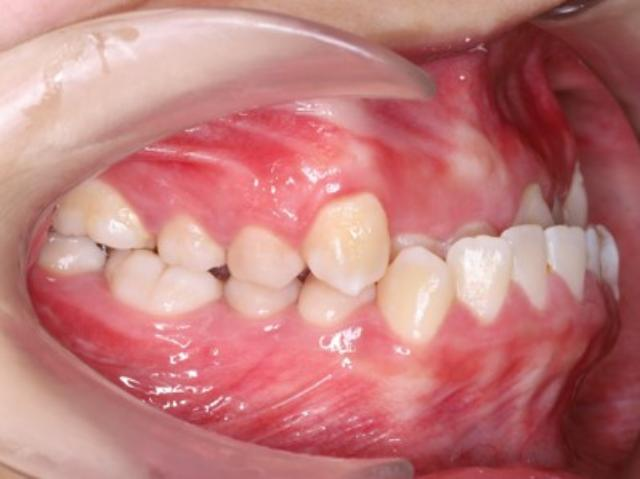canine class III 1/4: (294, 187, 454, 357)
molar class III full class: (45, 172, 223, 329)
